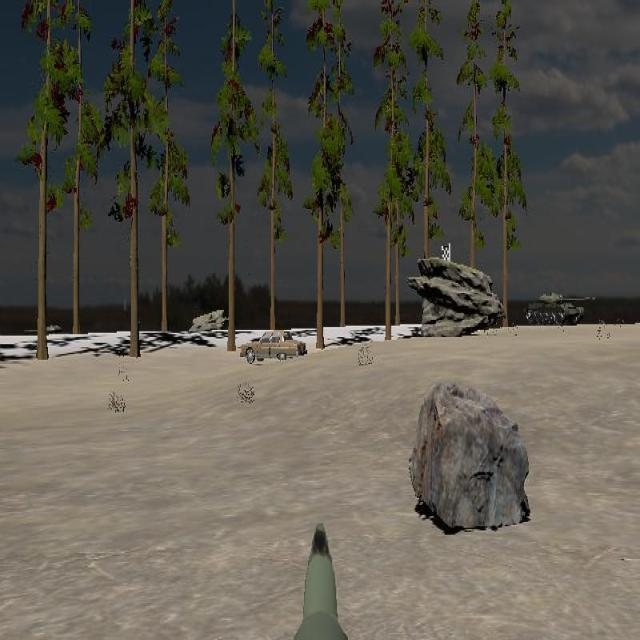Tank: (525, 291, 595, 327)
car: (240, 329, 307, 364)
